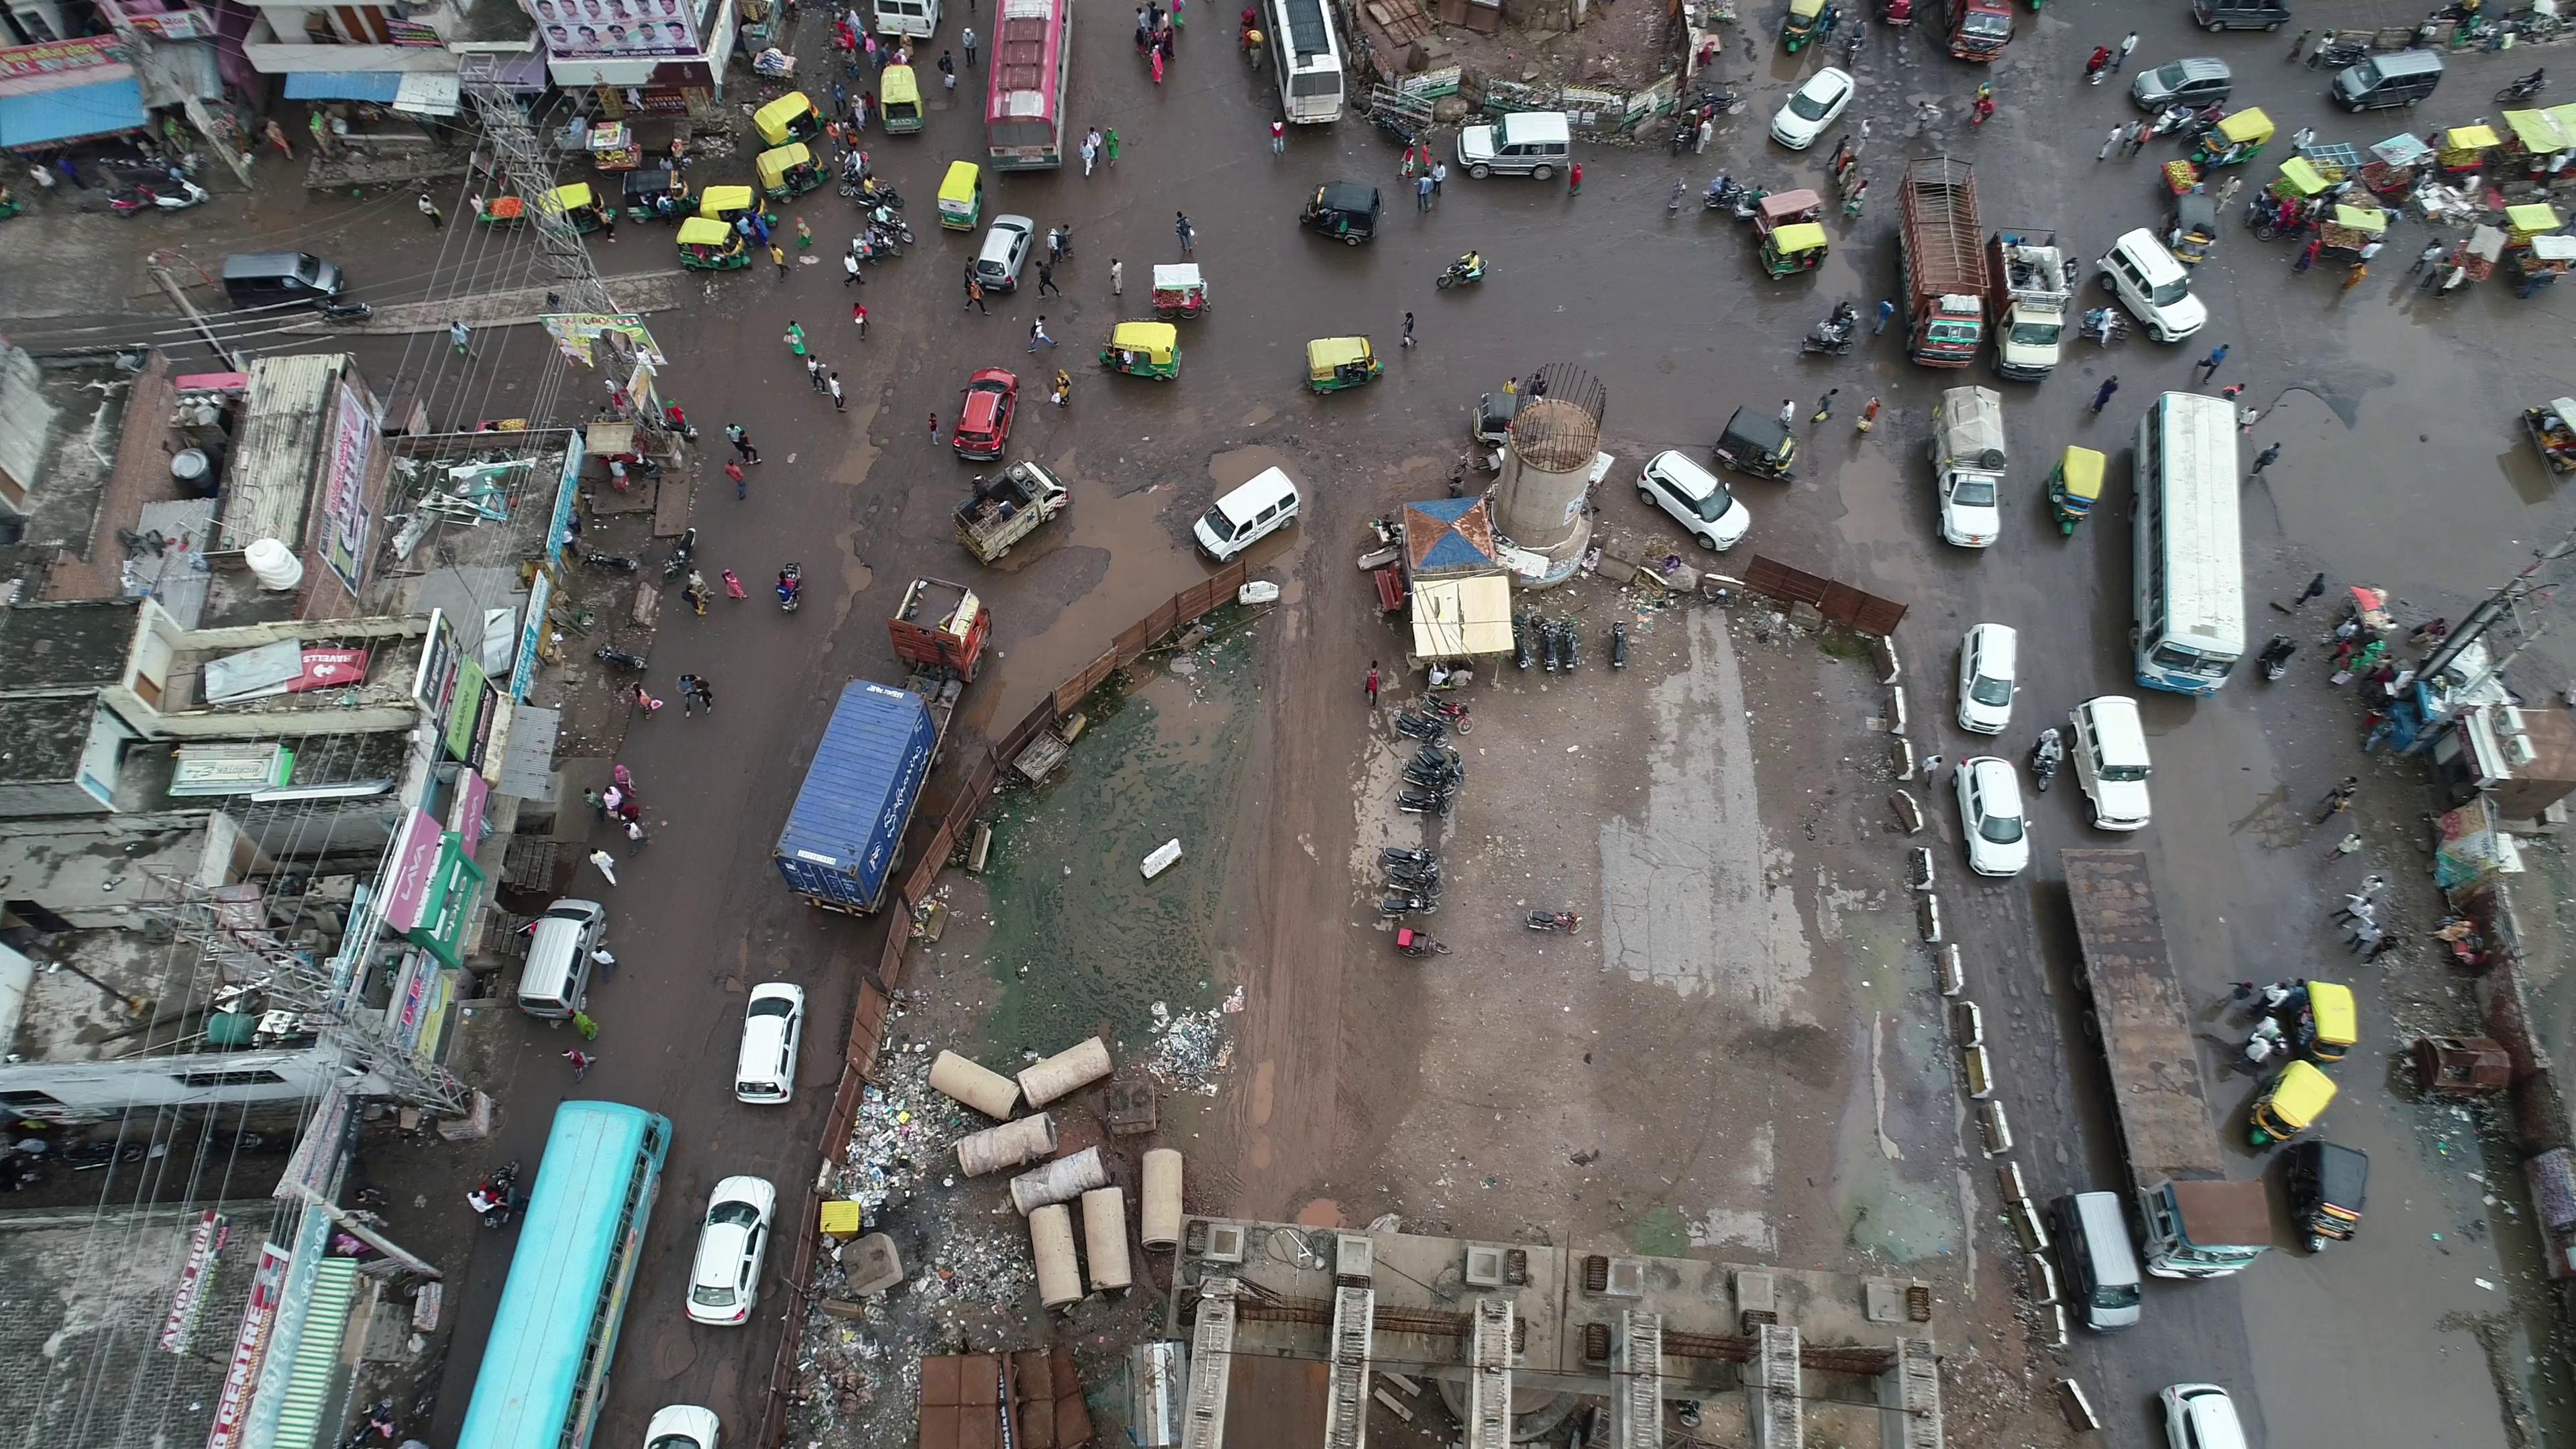Potholes: (849, 361, 916, 453)
